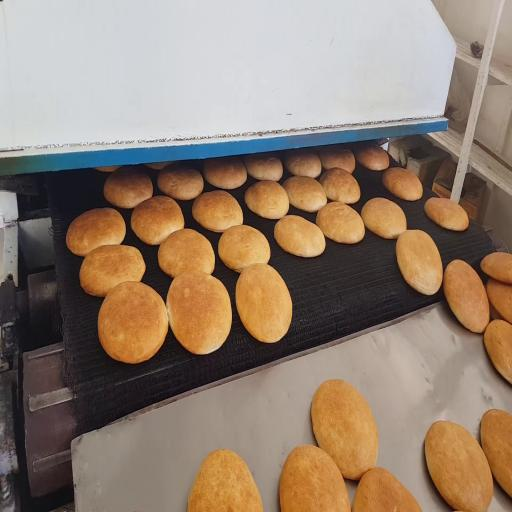bread: (311, 380, 378, 480), (425, 421, 493, 511), (98, 282, 168, 363), (167, 272, 231, 354), (279, 445, 350, 511), (188, 449, 263, 511), (236, 264, 292, 342), (80, 245, 145, 296), (443, 260, 489, 332), (396, 230, 443, 295), (352, 468, 421, 511), (66, 208, 125, 255), (158, 229, 214, 277), (481, 410, 511, 497), (131, 196, 184, 245), (218, 225, 270, 273), (274, 215, 325, 257), (192, 191, 243, 232), (104, 167, 153, 209), (316, 202, 364, 244), (361, 198, 406, 238), (484, 320, 511, 383), (245, 181, 289, 219), (283, 176, 326, 212), (158, 167, 203, 200), (320, 168, 360, 204), (425, 198, 468, 231), (204, 158, 246, 189), (383, 168, 422, 201), (487, 278, 511, 323), (285, 150, 321, 178), (245, 154, 282, 181), (319, 147, 355, 173), (481, 253, 511, 284), (355, 145, 389, 171), (489, 302, 503, 319), (146, 162, 172, 170), (95, 166, 120, 172)
